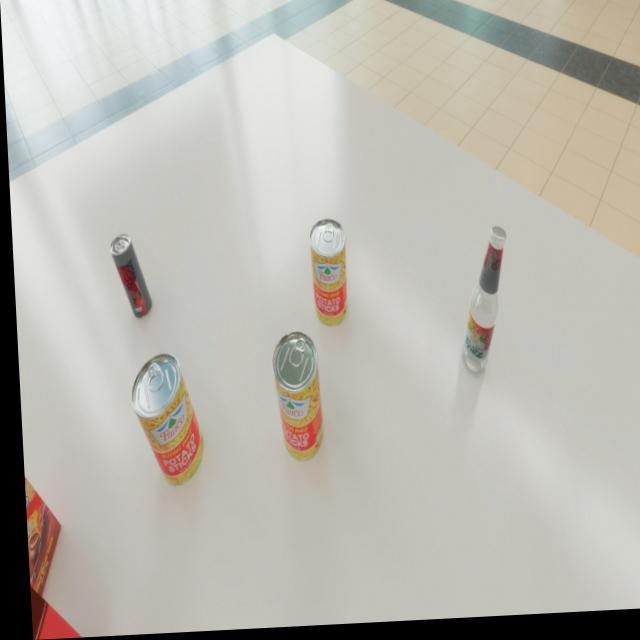Bottle: (452, 231, 509, 381)
Potato_sticks: (125, 353, 200, 489), (267, 333, 320, 465), (306, 221, 347, 330)
Rita_zero_sugar: (107, 234, 149, 321)
